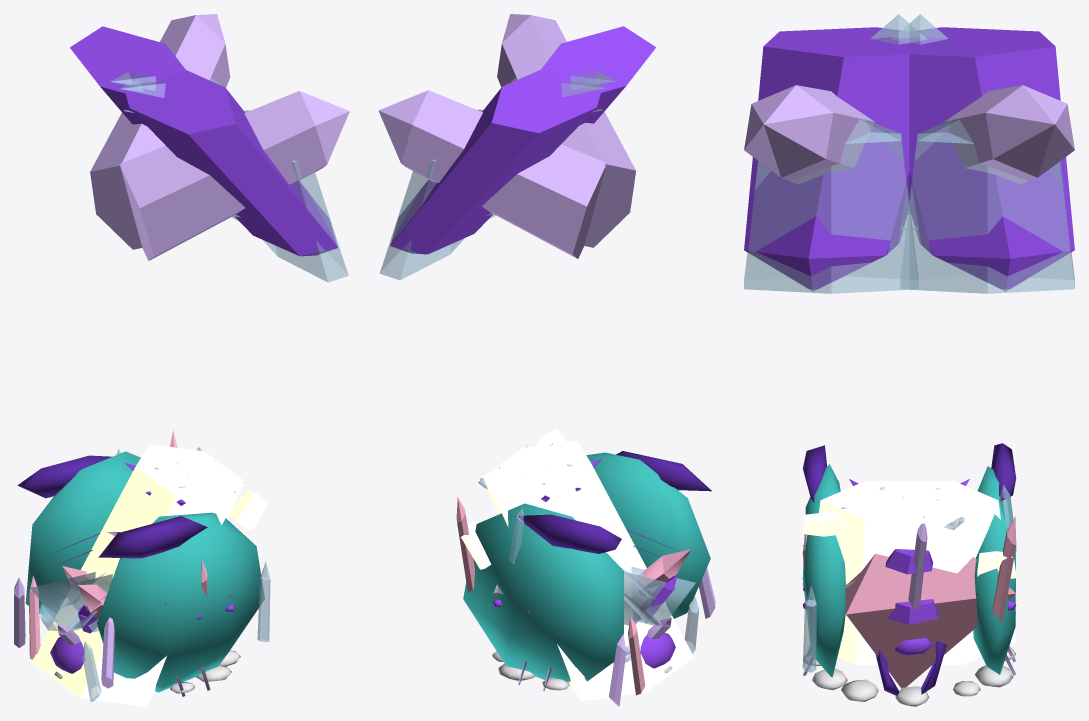
Rendered from maitre-cristal-leger.glb.
3 views of the same model, side by side, from view 1: azimuth 30°, elevation 25°; view 2: azimuth 150°, elevation 25°; view 3: azimuth 270°, elevation 25° (orthographic). The views are drawn at different scales.
Parts seen in each view (by area): view 1: maitre_cristal_corps, maitre_cristal_brasFalse, maitre_cristal_coeur, maitre_cristal_brasTrue, maitre_cristal_eclats, maitre_cristal_coeurs; view 2: maitre_cristal_corps, maitre_cristal_brasTrue, maitre_cristal_brasFalse, maitre_cristal_coeur, maitre_cristal_eclats, maitre_cristal_coeurs; view 3: maitre_cristal_brasFalse, maitre_cristal_brasTrue, maitre_cristal_corps, maitre_cristal_coeur, maitre_cristal_eclats, maitre_cristal_coeurs.
Boxes of the visible parts, bbox=[...] form: maitre_cristal_corps: bbox=[17, 447, 264, 696]; maitre_cristal_brasFalse: bbox=[119, 70, 349, 282]; maitre_cristal_coeur: bbox=[31, 444, 244, 706]; maitre_cristal_brasTrue: bbox=[70, 14, 238, 249]; maitre_cristal_eclats: bbox=[14, 430, 270, 701]; maitre_cristal_coeurs: bbox=[47, 490, 268, 676]; maitre_cristal_corps: bbox=[463, 443, 711, 691]; maitre_cristal_brasTrue: bbox=[378, 69, 606, 280]; maitre_cristal_brasFalse: bbox=[488, 14, 655, 247]; maitre_cristal_coeur: bbox=[483, 440, 694, 701]; maitre_cristal_eclats: bbox=[456, 467, 715, 706]; maitre_cristal_coeurs: bbox=[458, 429, 666, 679]; maitre_cristal_brasFalse: bbox=[744, 14, 926, 293]; maitre_cristal_brasTrue: bbox=[892, 14, 1074, 293]; maitre_cristal_corps: bbox=[802, 443, 1016, 706]; maitre_cristal_coeur: bbox=[802, 481, 1016, 664]; maitre_cristal_eclats: bbox=[802, 484, 1016, 672]; maitre_cristal_coeurs: bbox=[802, 512, 1016, 635].
Bounding box in the file's own units: 2.7 × 6.6 × 3.1.
